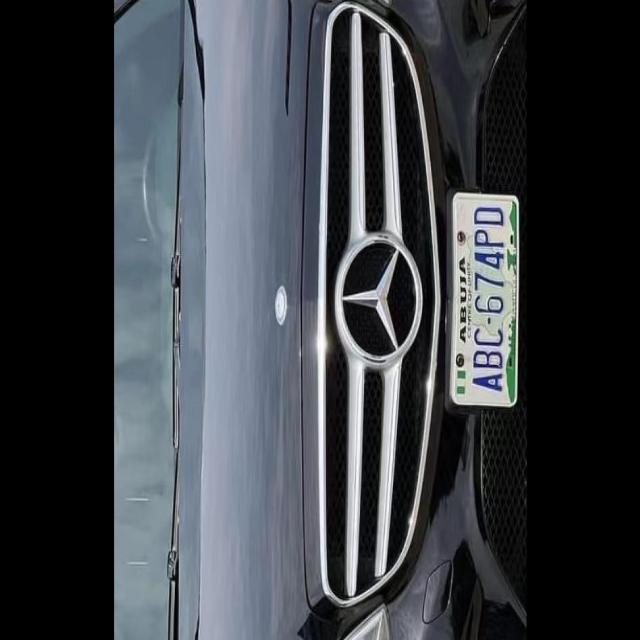Nigerian License Plate - vdataset benjamin-daria: (447, 190, 524, 408)
